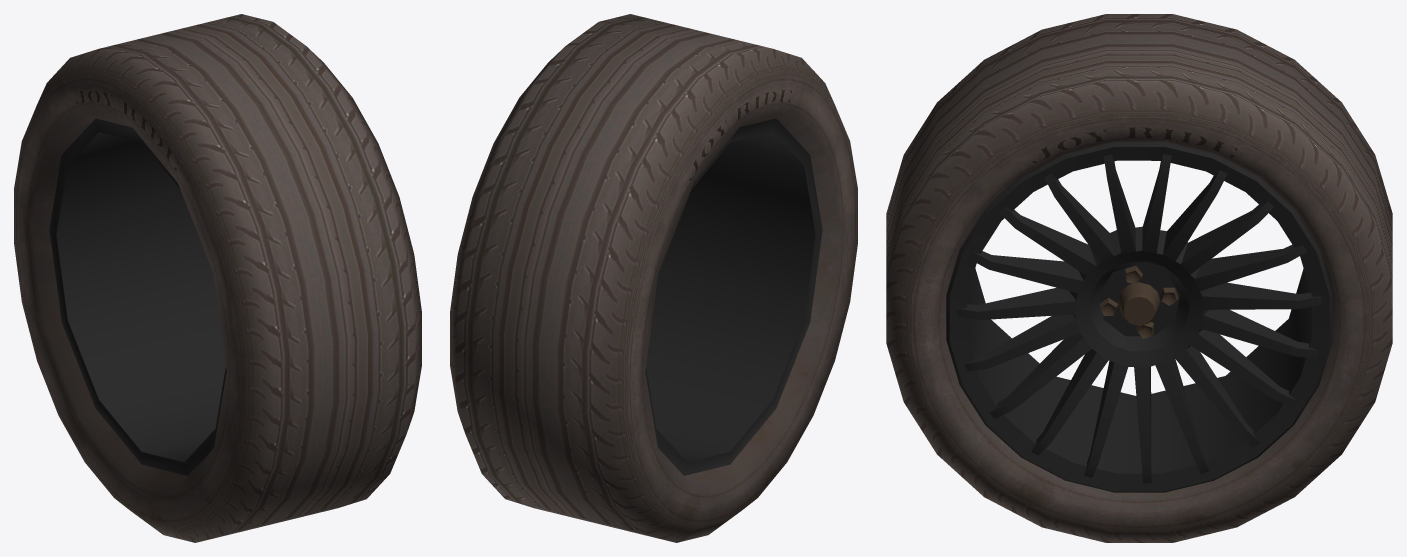
Rendered from tire.fbx.
The picture shows the model from 3 angles, left to right: view 1: azimuth 30°, elevation 25°; view 2: azimuth 150°, elevation 25°; view 3: azimuth 270°, elevation 25°; orthographic projection.
Parts seen in each view (by area): view 1: node_id16, node_id7, node_id13; view 2: node_id16, node_id7, node_id13; view 3: node_id7, node_id16, node_id13, node_id10.
Part boxes in pixels (x1,y1,x2,y2): node_id16: (37,14,421,542); node_id7: (49,118,226,475); node_id13: (14,73,244,527); node_id16: (450,14,834,542); node_id7: (645,118,822,475); node_id13: (627,73,857,527); node_id7: (946,142,1332,492); node_id16: (886,14,1392,542); node_id13: (912,117,1366,529); node_id10: (1099,266,1178,338).
Bounding box in the file's own units: 0.2124 × 0.512 × 0.512.
4 materials, 3 textured.
